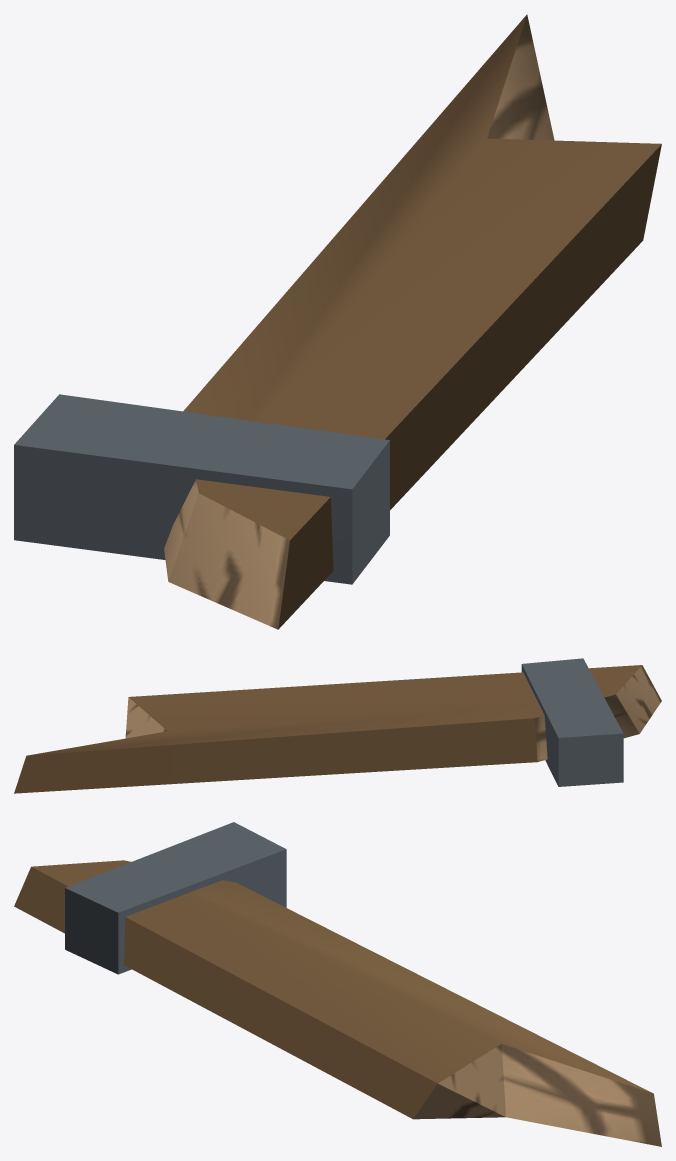
Rendered from FX_wreck_B.glb.
3 views of the same model, one above another, from view 1: azimuth 30°, elevation 25°; view 2: azimuth 150°, elevation 25°; view 3: azimuth 270°, elevation 25° (orthographic). The views are drawn at different scales.
Visible parts, largest first — view 1: FX_wreck_B; view 2: FX_wreck_B; view 3: FX_wreck_B.
Part boxes in pixels (left/top/right/bottom): FX_wreck_B: left=14, top=14, right=661, bottom=629; FX_wreck_B: left=14, top=658, right=661, bottom=793; FX_wreck_B: left=14, top=822, right=661, bottom=1146.
Bounding box in the file's own units: 1.12 × 0.1191 × 1.13.
Materials: 1 (1 with a texture image).
